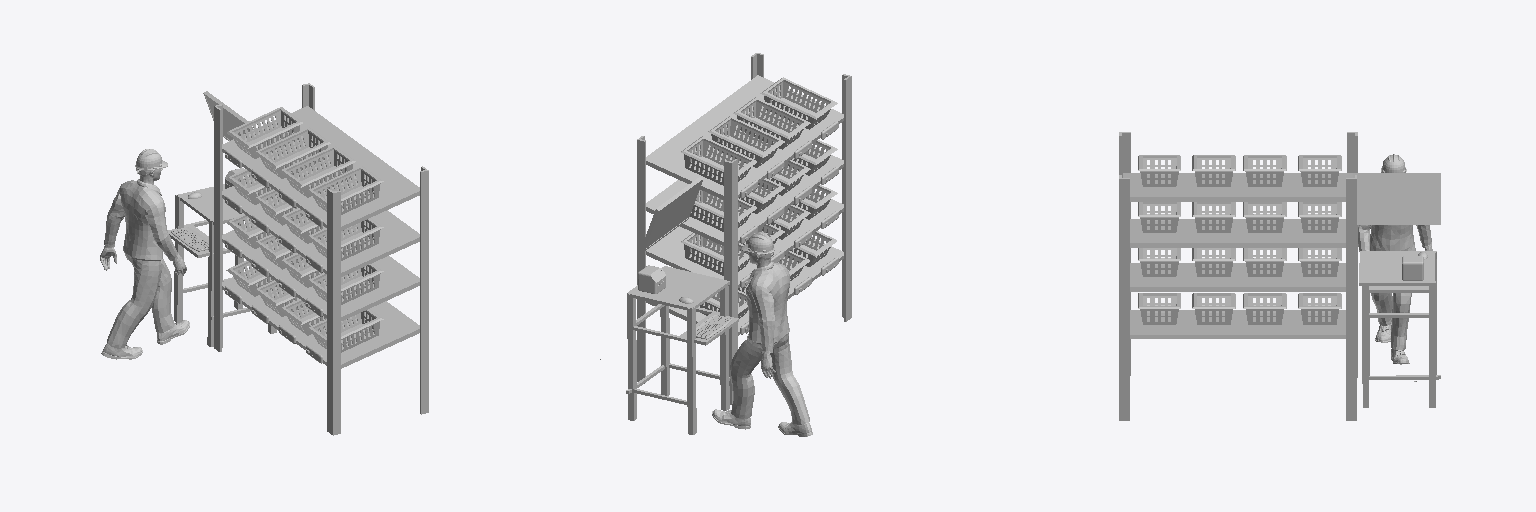
File: fenjianqiang_worker.obj
3 renders of one model, left to right at view 1: azimuth 30°, elevation 25°; view 2: azimuth 150°, elevation 25°; view 3: azimuth 270°, elevation 25°, orthographic.
Parts seen in each view (by area): view 1: 人.4, 立方体.2_1_1, 布尔.1, 立方体.1_1_1, 立方体_1, 立方体.3_1, 立方体.2, 拍拍灯.3, 布尔, 布尔.2, 布尔.16, 布尔.19 (+16 smaller); view 2: 人.4, 立方体.2, 立方体.2_1_1, 立方体_1, 立方体.1_1_1, 布尔.1, 布尔.2, 拍拍灯.3, 布尔.17, 布尔.18, 布尔.3, 布尔.16 (+12 smaller); view 3: 立方体.2, 电脑, 立方体.2_1_1, 立方体.1_1_1, 立方体_1, 立方体.3_1, 人.4, 布尔, 布尔.3, 布尔.5, 布尔.6, 布尔.7 (+16 smaller).
Boxes of the visible parts, x1,y1,x2,y2 form: 人.4: [100, 149, 189, 359]; 立方体.2_1_1: [222, 106, 419, 230]; 布尔.1: [327, 189, 340, 435]; 立方体.1_1_1: [222, 179, 419, 276]; 立方体_1: [222, 224, 419, 320]; 立方体.3_1: [222, 270, 419, 368]; 立方体.2: [168, 184, 276, 346]; 拍拍灯.3: [225, 150, 322, 363]; 布尔: [420, 166, 428, 414]; 布尔.2: [214, 104, 222, 351]; 布尔.16: [227, 107, 302, 158]; 布尔.19: [280, 146, 355, 197]; 人.4: [712, 232, 812, 436]; 立方体.2: [626, 266, 738, 434]; 立方体.2_1_1: [646, 75, 843, 199]; 立方体_1: [646, 192, 843, 287]; 立方体.1_1_1: [646, 147, 843, 245]; 布尔.1: [842, 74, 851, 321]; 布尔.2: [724, 159, 737, 404]; 拍拍灯.3: [740, 121, 838, 334]; 布尔.17: [708, 116, 784, 167]; 布尔.18: [760, 77, 837, 129]; 布尔.3: [637, 136, 645, 383]; 布尔.16: [681, 136, 756, 185]; 立方体.2: [1359, 251, 1440, 407]; 电脑: [1353, 173, 1440, 224]; 立方体.2_1_1: [1123, 173, 1352, 201]; 立方体.1_1_1: [1130, 219, 1345, 247]; 立方体_1: [1130, 263, 1345, 291]; 立方体.3_1: [1130, 310, 1345, 338]; 人.4: [1358, 154, 1432, 364]; 布尔: [1119, 175, 1129, 420]; 布尔.3: [1346, 175, 1356, 420]; 布尔.5: [1192, 293, 1235, 324]; 布尔.6: [1243, 293, 1286, 324]; 布尔.7: [1298, 293, 1341, 324].
Bounding box in the file's own units: 100 × 118 × 141.